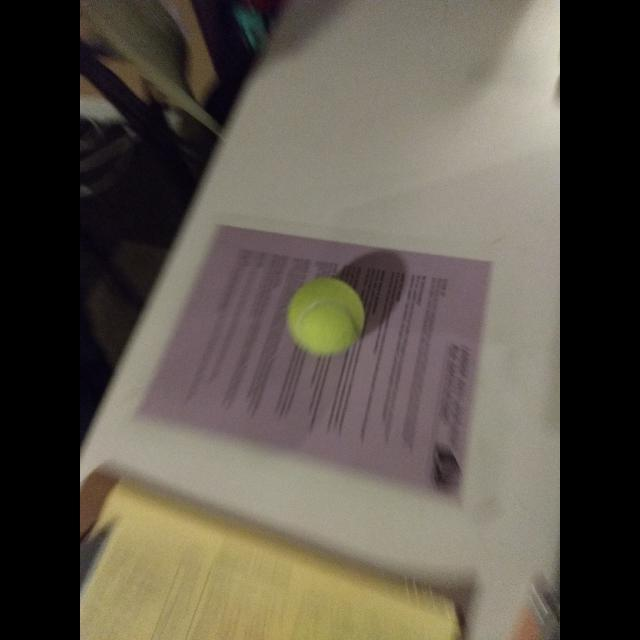tennis ball: (286, 274, 364, 356)
